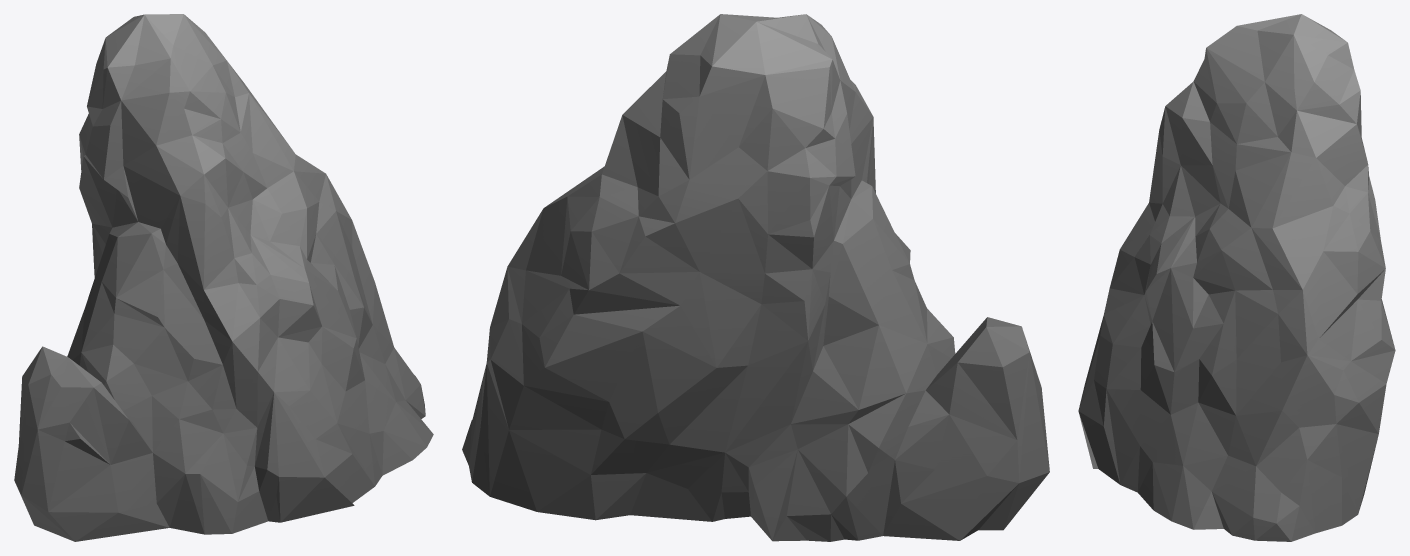
File: stone-large-5.glb
The picture shows the model from 3 angles, left to right: view 1: azimuth 30°, elevation 25°; view 2: azimuth 150°, elevation 25°; view 3: azimuth 270°, elevation 25°; orthographic projection. The views are drawn at different scales.
Visible parts, largest first — view 1: stone_large_5; view 2: stone_large_5; view 3: stone_large_5.
Boxes of the visible parts, x1,y1,x2,y2 form: stone_large_5: (14, 14, 433, 541); stone_large_5: (462, 14, 1049, 541); stone_large_5: (1078, 14, 1395, 541).
Bounding box in the file's own units: 12.91 × 12.03 × 8.45.
1 material, 1 textured.
